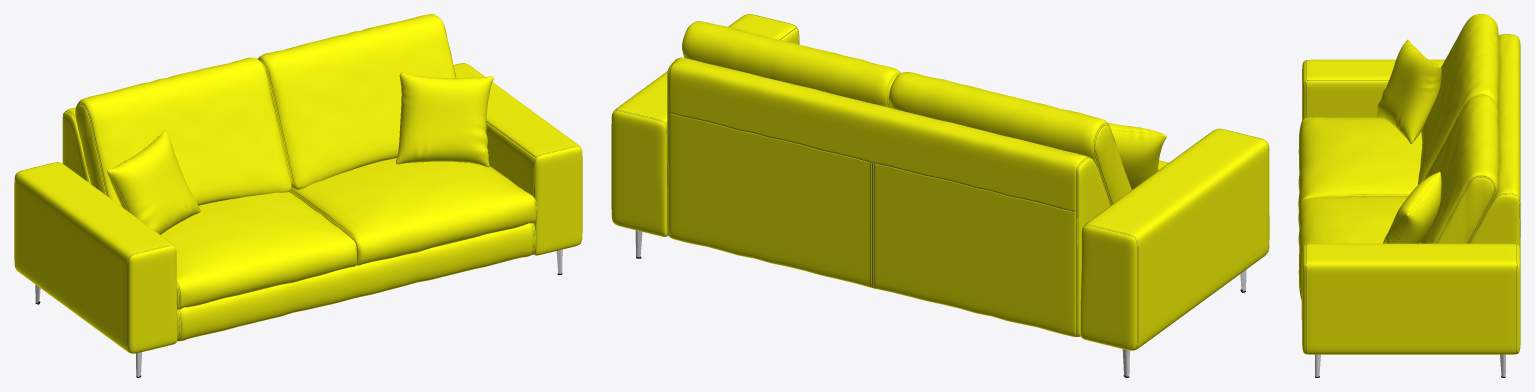
3 renders of one model, left to right at view 1: azimuth 30°, elevation 25°; view 2: azimuth 150°, elevation 25°; view 3: azimuth 270°, elevation 25°, orthographic. The views are drawn at different scales.
Visible parts, largest first — view 1: bodyyellowgreen6, leftarm6, rightarm6; view 2: bodyyellowgreen6, leftarm6, rightarm6; view 3: bodyyellowgreen6, rightarm6, leftarm6, metaleg6.
Boxes of the visible parts, x1=… form: bodyyellowgreen6: x1=62, y1=14, x2=537, y2=341; leftarm6: x1=14, y1=162, x2=177, y2=353; rightarm6: x1=453, y1=63, x2=582, y2=255; bodyyellowgreen6: x1=667, y1=21, x2=1168, y2=336; leftarm6: x1=1080, y1=128, x2=1269, y2=350; rightarm6: x1=611, y1=14, x2=799, y2=236; bodyyellowgreen6: x1=1298, y1=14, x2=1520, y2=319; rightarm6: x1=1302, y1=243, x2=1520, y2=354; leftarm6: x1=1302, y1=59, x2=1444, y2=120; metaleg6: x1=1315, y1=354, x2=1505, y2=377.
Size of the model in its own units: 2.04 by 0.8768 by 0.9321.
8 materials, 5 textured.
